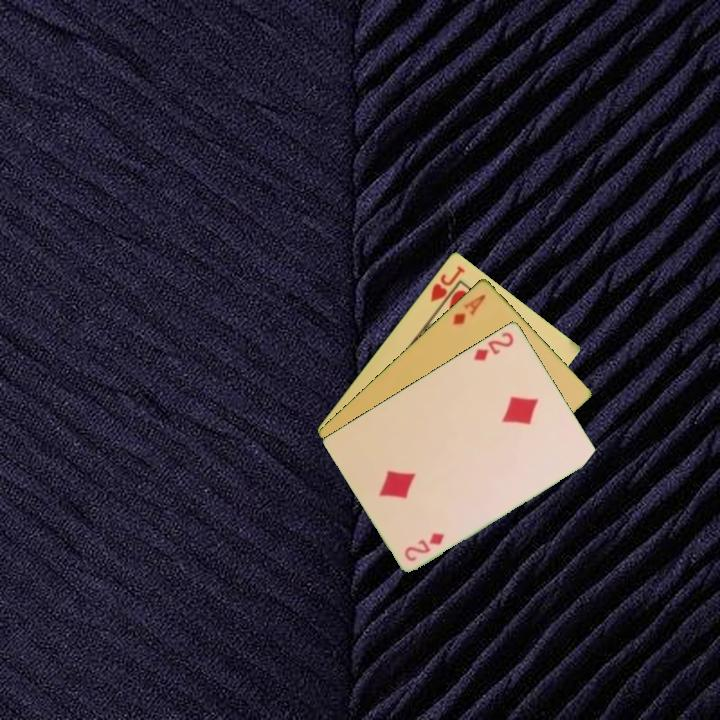2d: (470, 328, 517, 363), (400, 529, 447, 564)
Ad: (448, 290, 488, 328)
Jh: (427, 262, 468, 305)
